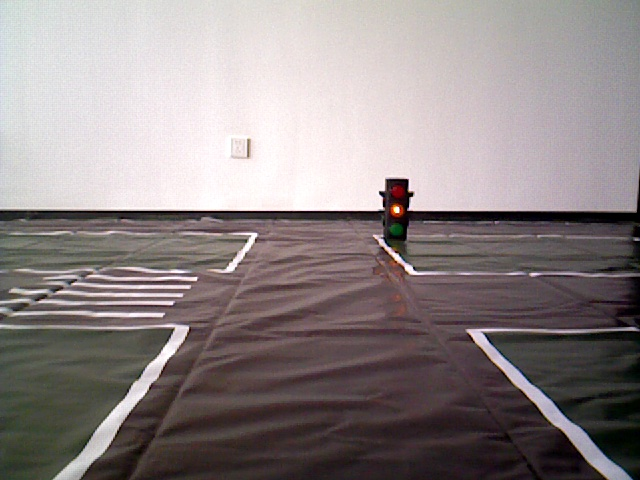yellow: (383, 178, 408, 236)
